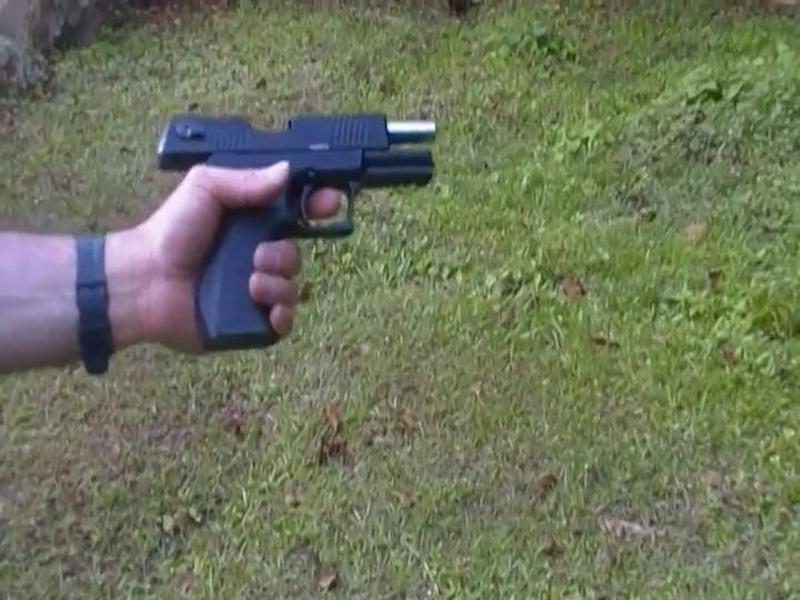Pistola: (132, 91, 467, 360)
